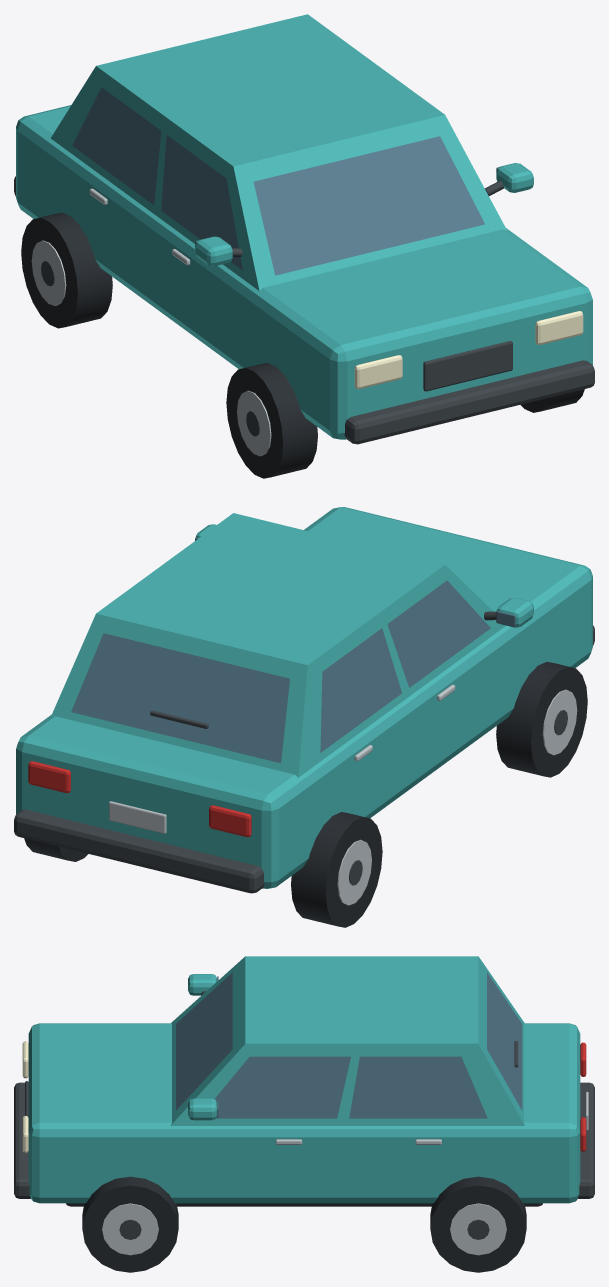
Rendered from car_compact_hatchback.glb.
The picture shows the model from 3 angles, top to bottom: view 1: azimuth 30°, elevation 25°; view 2: azimuth 150°, elevation 25°; view 3: azimuth 270°, elevation 25°; orthographic projection. The views are drawn at different scales.
Parts seen in each view (by area): view 1: Main body, Hatchback cabin shell, Hatchback windshield, Front bumper, Left front wheel tire, Left rear wheel tire, Hatchback left window 2, Hatchback left window 1, Front grille, Left front wheel rim, Left rear wheel rim, Front headlamp.001 (+4 smaller); view 2: Main body, Hatchback cabin shell, Hatchback rear glass, Rear bumper, Left rear wheel tire, Left front wheel tire, Hatchback left window 2, Hatchback left window 1, Left front wheel rim, Left rear wheel rim, Rear blank license plate, Rear tail lamp (+3 smaller); view 3: Main body, Hatchback cabin shell, Hatchback right window 2, Hatchback right window 1, Right front wheel tire, Right rear wheel tire, Hatchback windshield, Hatchback rear glass, Right front wheel rim, Right rear wheel rim, Rear bumper, Front bumper (+3 smaller).
Boxes of the visible parts, x1,y1,x2,y2 form: Main body: (16, 105, 592, 439); Hatchback cabin shell: (50, 14, 506, 290); Hatchback windshield: (253, 136, 484, 275); Front bumper: (344, 360, 594, 444); Left front wheel tire: (226, 362, 317, 478); Left rear wheel tire: (21, 212, 112, 328); Hatchback left window 2: (72, 87, 161, 204); Hatchback left window 1: (161, 135, 242, 270); Front grille: (423, 341, 512, 391); Left front wheel rim: (237, 390, 271, 456); Left rear wheel rim: (31, 240, 66, 305); Front headlamp.001: (535, 311, 583, 344); Main body: (16, 507, 592, 888); Hatchback cabin shell: (51, 513, 505, 777); Hatchback rear glass: (71, 633, 289, 763); Rear bumper: (14, 809, 264, 893); Left rear wheel tire: (291, 812, 382, 927); Left front wheel tire: (496, 662, 587, 777); Hatchback left window 2: (320, 628, 401, 752); Hatchback left window 1: (387, 580, 490, 687); Left front wheel rim: (542, 689, 577, 755); Left rear wheel rim: (337, 839, 371, 905); Rear blank license plate: (109, 801, 166, 833); Rear tail lamp: (209, 805, 251, 837); Main body: (28, 1023, 580, 1203); Hatchback cabin shell: (170, 956, 524, 1125); Hatchback right window 2: (349, 1056, 487, 1118); Hatchback right window 1: (215, 1056, 350, 1118); Right front wheel tire: (82, 1176, 178, 1272); Right rear wheel tire: (430, 1176, 526, 1272); Hatchback windshield: (176, 972, 232, 1110); Hatchback rear glass: (487, 972, 522, 1110); Right front wheel rim: (102, 1203, 158, 1255); Right rear wheel rim: (450, 1203, 506, 1255); Rear bumper: (578, 1082, 594, 1198); Front bumper: (14, 1082, 30, 1198).
Size of the model in its own units: 2.06 by 1.49 by 3.74.
